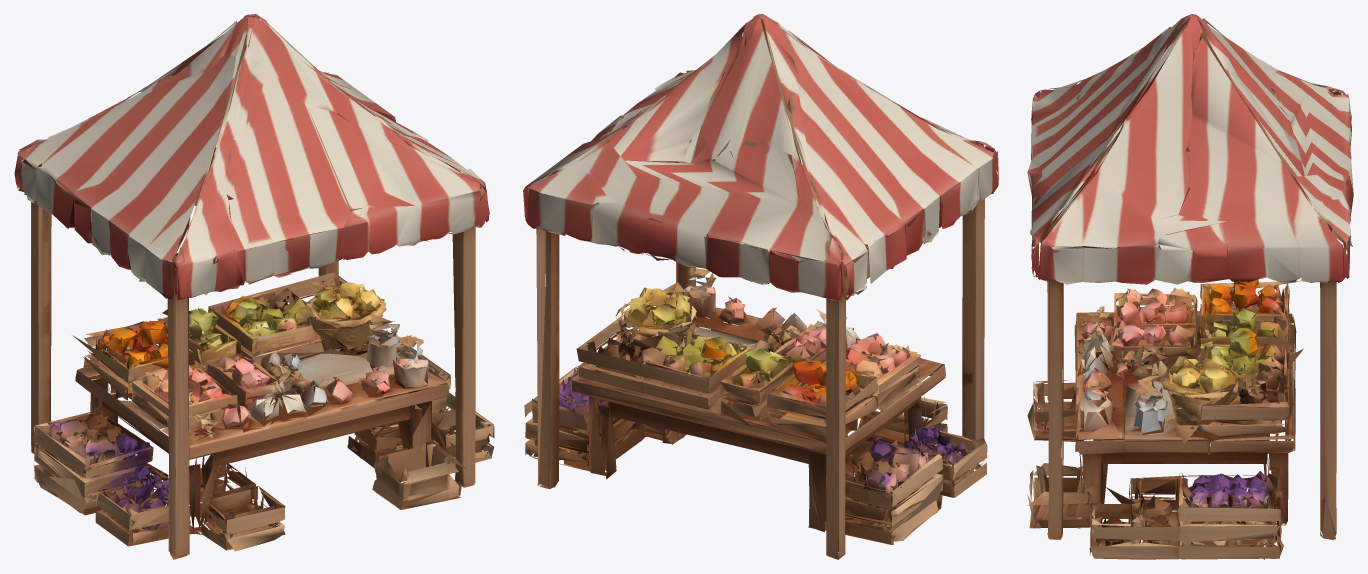
Rendered from kios-merah.glb.
3 renders of one model, left to right at view 1: azimuth 30°, elevation 25°; view 2: azimuth 150°, elevation 25°; view 3: azimuth 270°, elevation 25°, orthographic.
Parts seen in each view (by area): view 1: node_0; view 2: node_0; view 3: node_0.
Boxes of the visible parts, box(x1,y1,x2,y2) form: node_0: box(14, 14, 494, 559); node_0: box(523, 14, 998, 559); node_0: box(1027, 14, 1353, 559).
Bounding box in the file's own units: 0.7579 × 0.8931 × 0.5784.
1 material, 1 textured.
